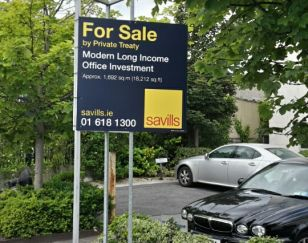property sign: (68, 9, 199, 136)
